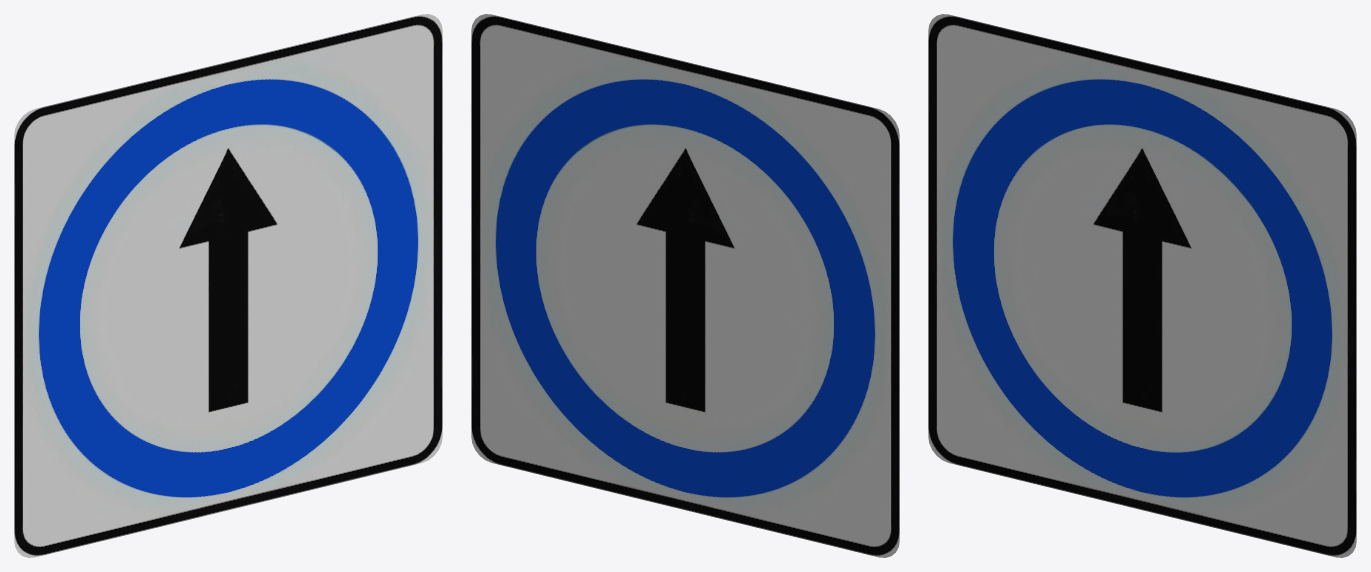
File: azul_up.gltf
The picture shows the model from 3 angles, left to right: view 1: azimuth 30°, elevation 25°; view 2: azimuth 150°, elevation 25°; view 3: azimuth 330°, elevation 25°; orthographic projection.
Parts seen in each view (by area): view 1: azul_up; view 2: azul_up; view 3: azul_up.
Part boxes in pixels (x1,y1,x2,y2): azul_up: [14, 14, 442, 557]; azul_up: [471, 14, 899, 557]; azul_up: [928, 14, 1356, 557].
Size of the model in its own units: 1.51 by 1.51 by 3.36e-16.
Materials: 1 (1 with a texture image).
